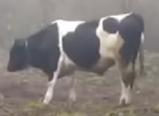cow: (7, 11, 145, 106)
